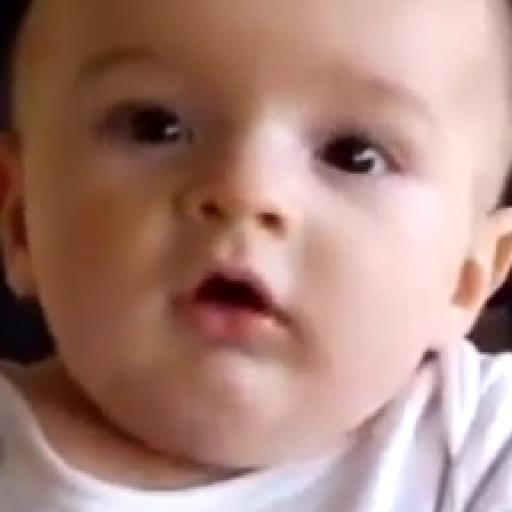Autism: (22, 1, 508, 428)
